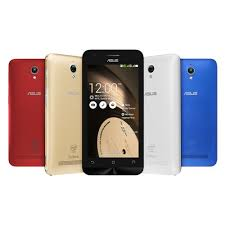asus: (79, 46, 145, 179), (142, 51, 183, 179), (44, 49, 81, 178), (178, 53, 218, 171), (7, 54, 46, 170)
